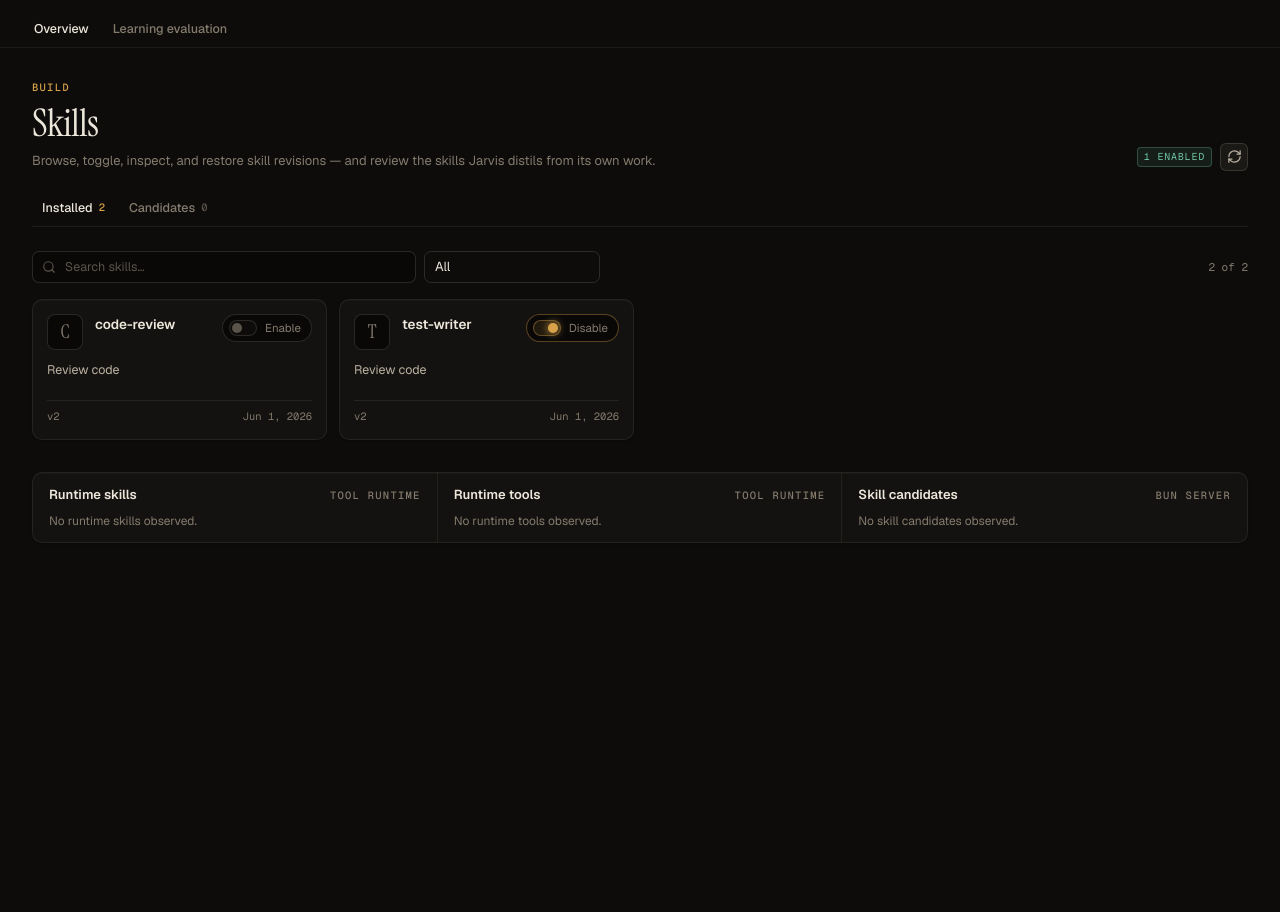
Test: SkillsPage native toggle coordination › keeps filtered membership confirmed while independent skills settle
Expected: the button with aria-label "Inspect skill: code-review" is shown, [95, 314, 175, 334]
Click the button "Enable": [267, 328] box [222, 314, 312, 342]
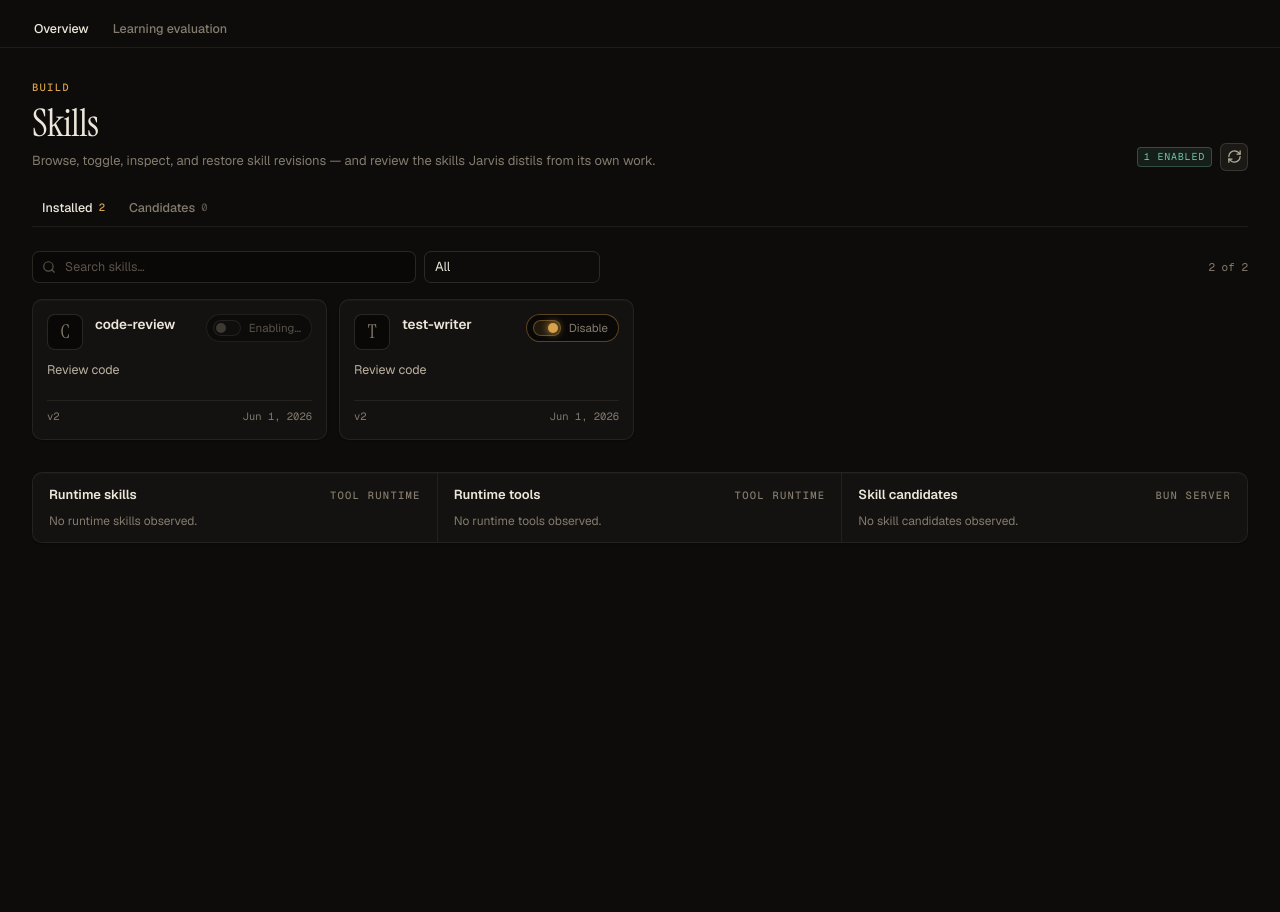
Click the button with aria-label "Inspect skill: test-writer": [437, 324] box [402, 314, 472, 334]
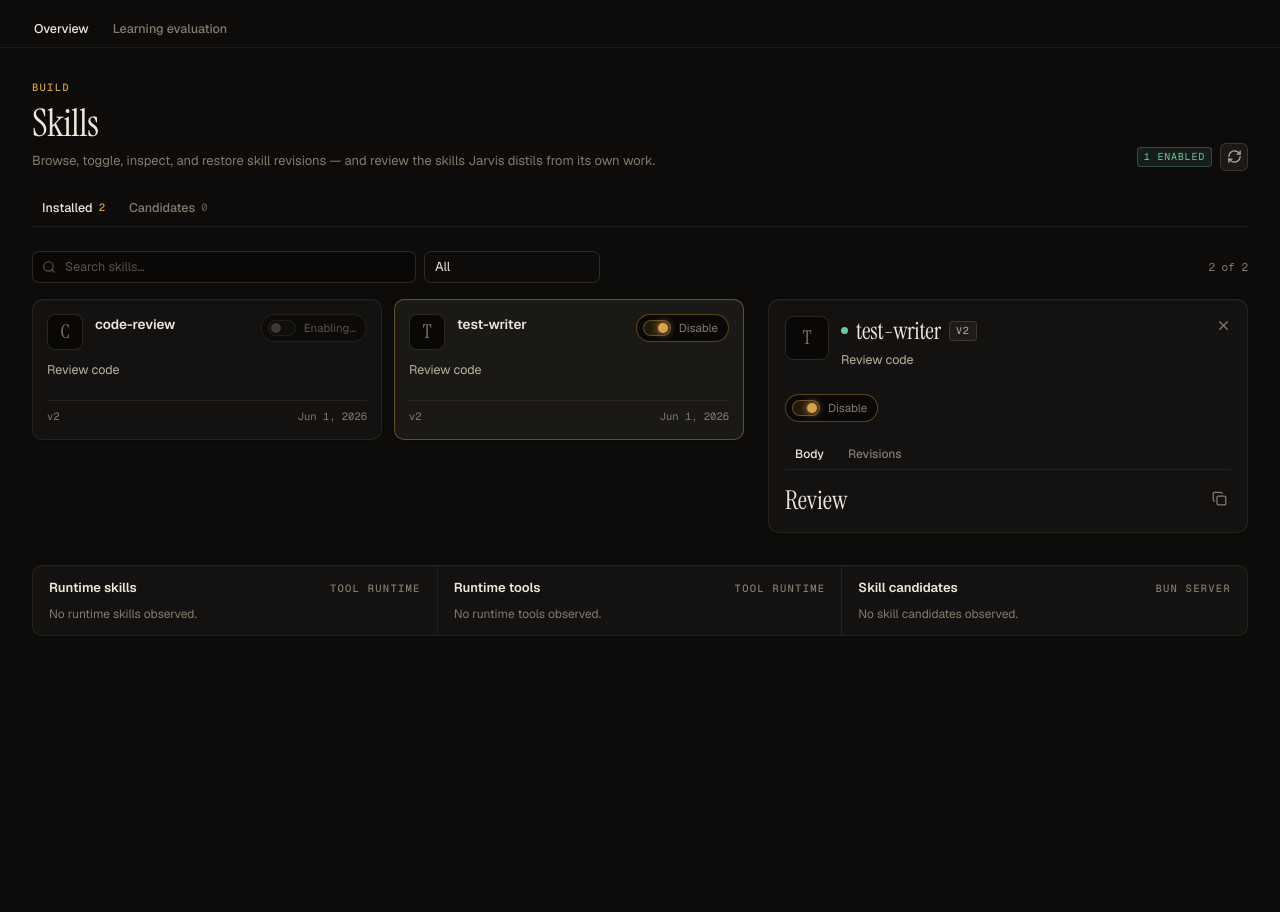
Click the 2nd button "Disable": [832, 408] box [785, 394, 878, 422]
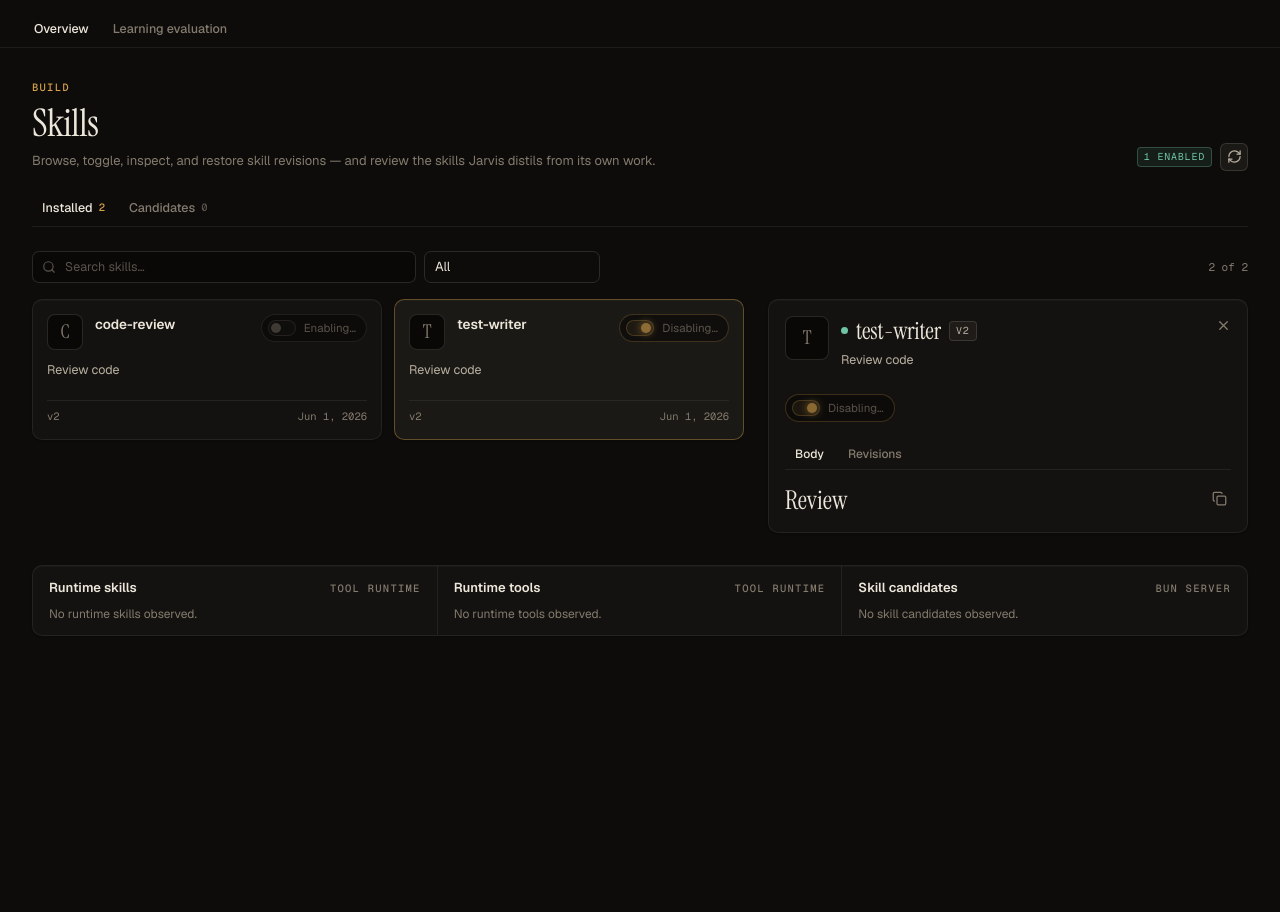
Select "Enabled" in the dropdown: [512, 267] box [424, 251, 600, 283]
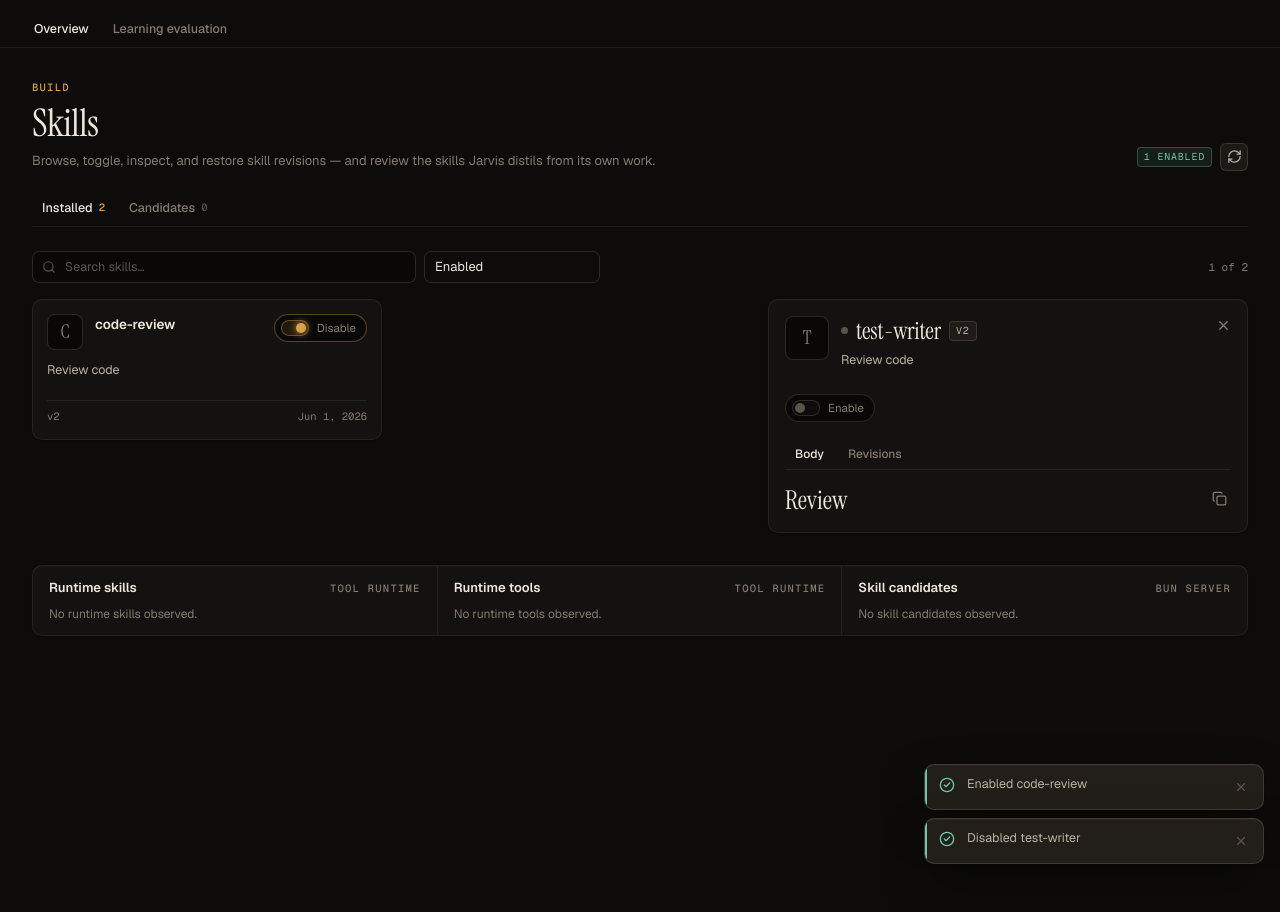
Expected: the text "1 enabled" is shown, [1144, 149, 1205, 164]
Result: the button "Disable" is enabled at [274, 314, 367, 342]
